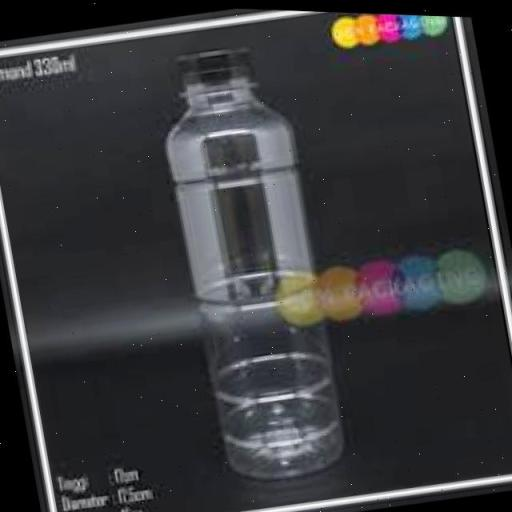plastic: (146, 31, 356, 492)
